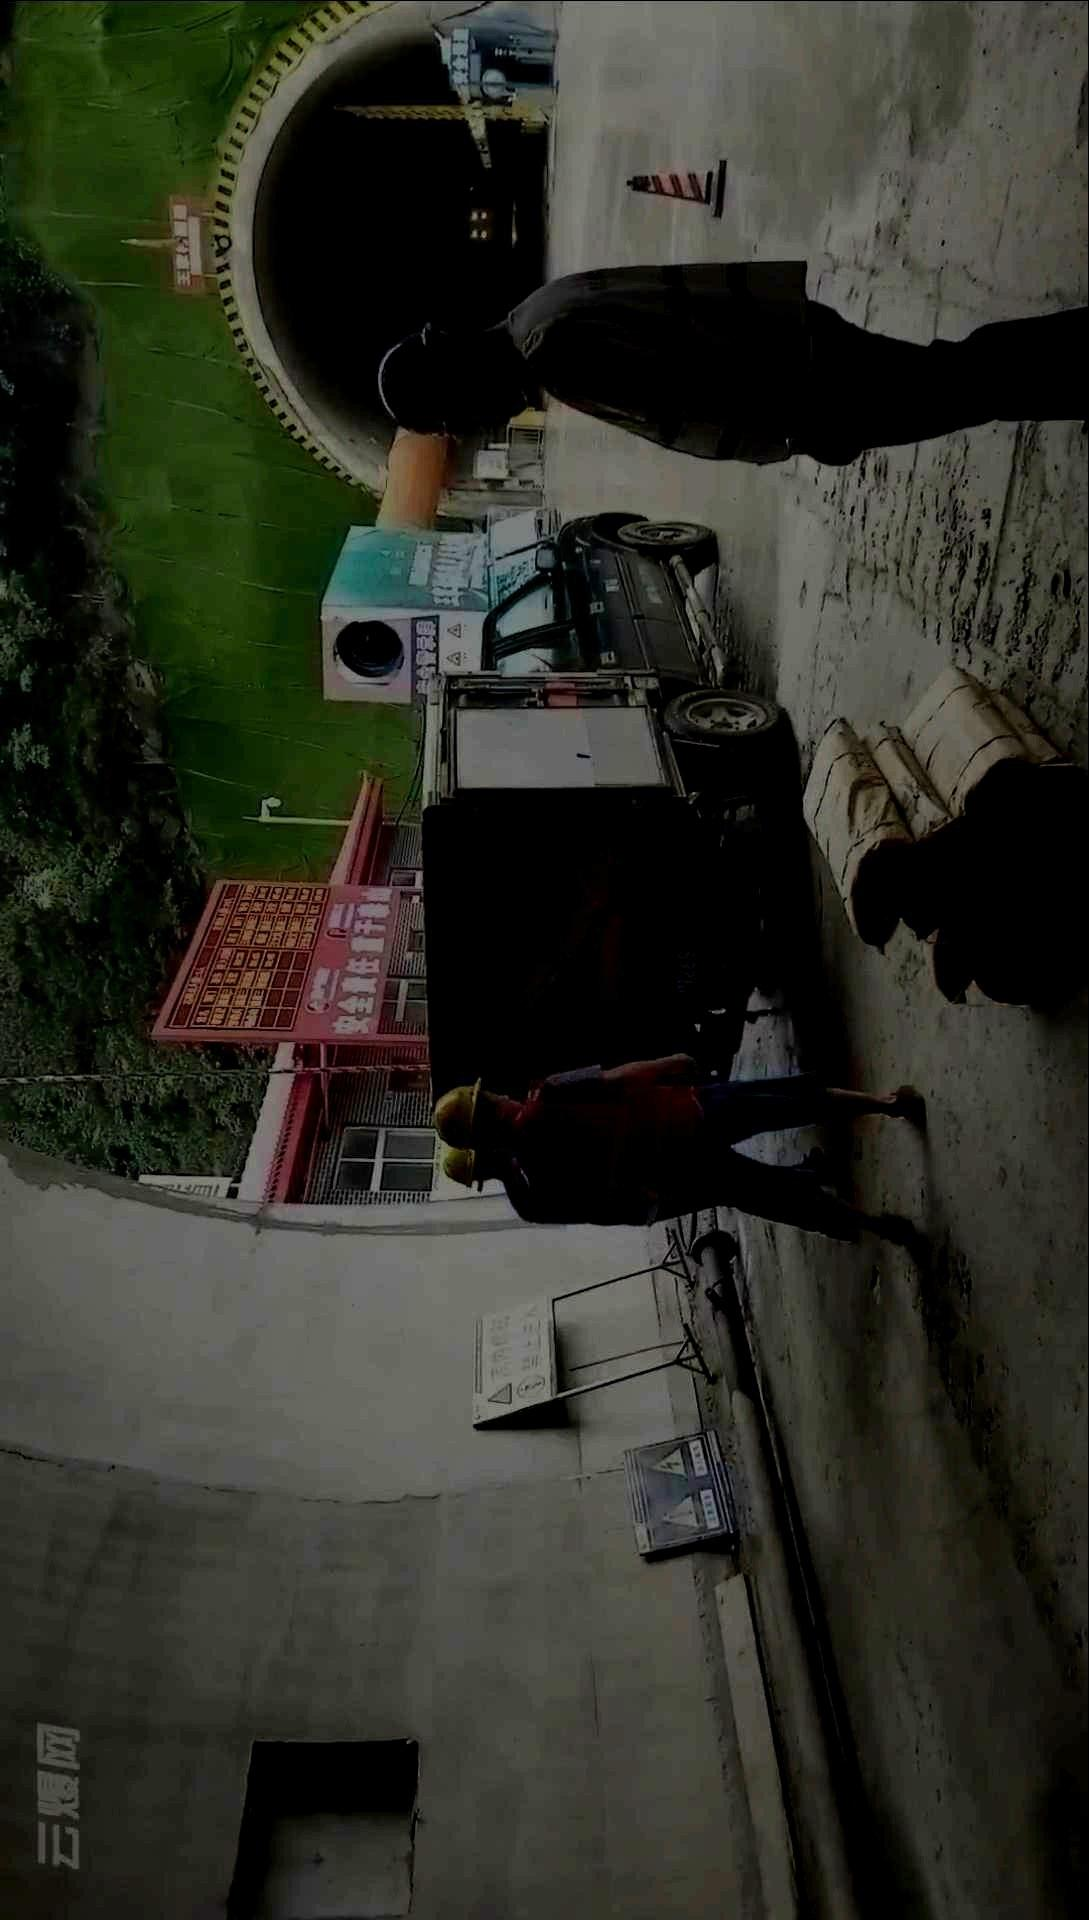helmet: (378, 322, 525, 446), (432, 1075, 522, 1151), (442, 1149, 500, 1189)
